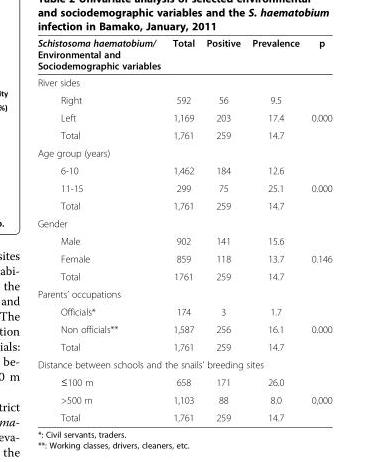table: (36, 36, 331, 422)
table column: (36, 36, 166, 422), (245, 36, 304, 422), (199, 36, 245, 422), (166, 36, 199, 422), (304, 36, 331, 422)
table column header: (36, 36, 331, 73)
table projected row header: (36, 143, 331, 161), (36, 284, 331, 302), (36, 73, 331, 90), (36, 214, 331, 231), (36, 355, 331, 372)
table row: (36, 36, 331, 73), (36, 90, 331, 108), (36, 108, 331, 126), (36, 143, 331, 161), (36, 161, 331, 179), (36, 196, 331, 214), (36, 231, 331, 249), (36, 249, 331, 267), (36, 284, 331, 302), (36, 302, 331, 320), (36, 337, 331, 355), (36, 372, 331, 390), (36, 390, 331, 408), (36, 73, 331, 90), (36, 126, 331, 143), (36, 179, 331, 196), (36, 214, 331, 231), (36, 267, 331, 284), (36, 320, 331, 337), (36, 355, 331, 372), (36, 408, 331, 422)
